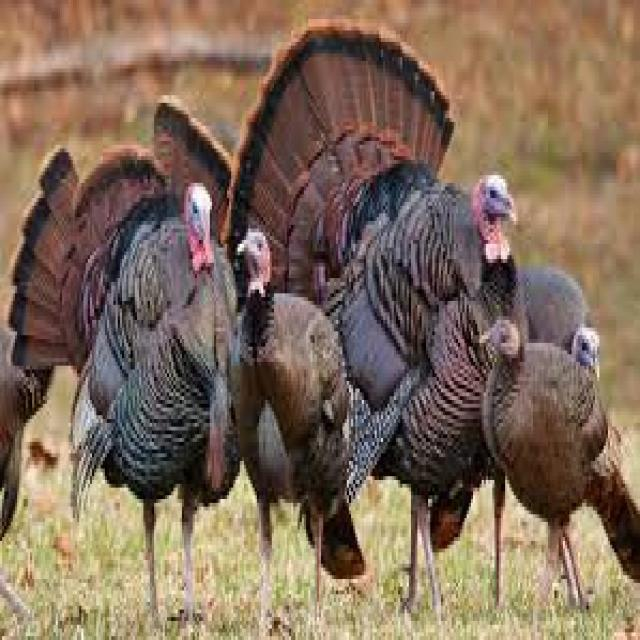turkey: (227, 19, 524, 606), (9, 95, 238, 598), (231, 229, 364, 617), (492, 328, 638, 598)
